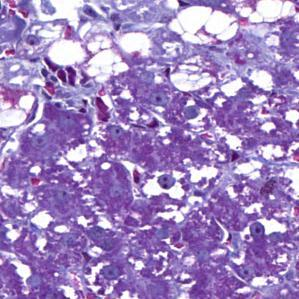ballooning: (164, 3, 242, 47), (83, 48, 132, 85)
